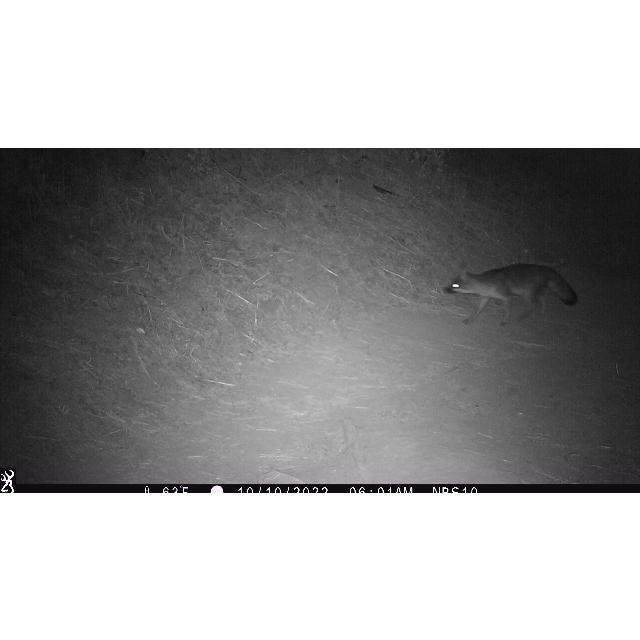animals: (445, 261, 579, 327)
